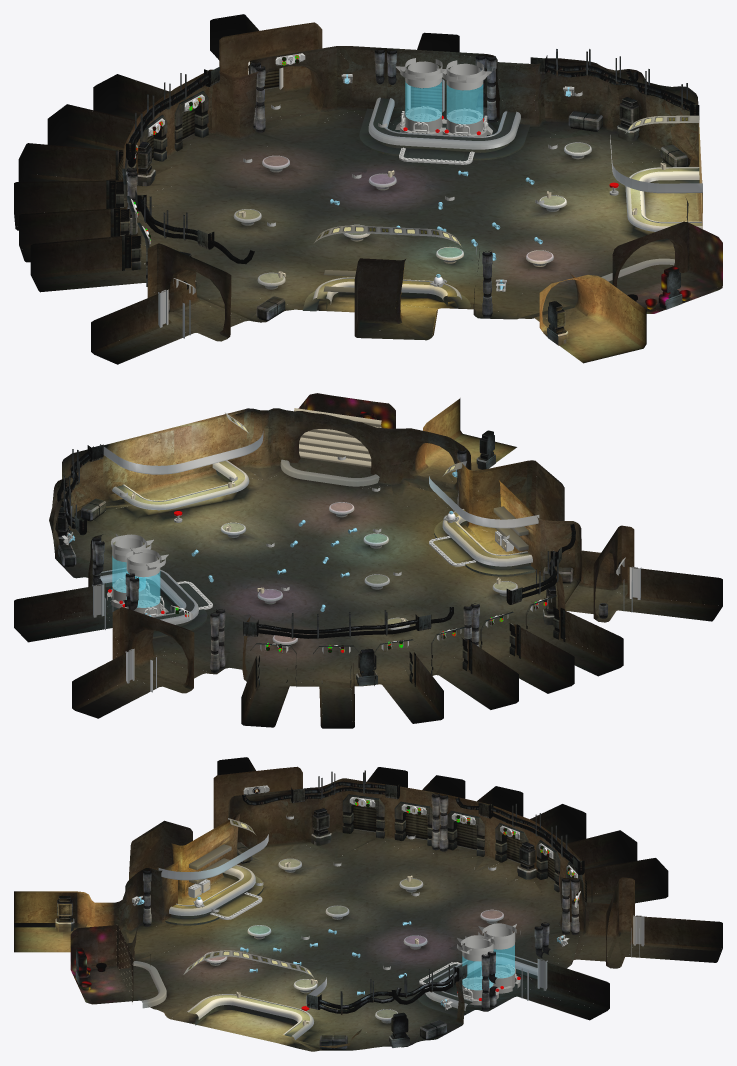
The model's file is cantina.glb.
3 renders of one model, top to bottom at view 1: azimuth 30°, elevation 25°; view 2: azimuth 150°, elevation 25°; view 3: azimuth 270°, elevation 25°, orthographic. The views are drawn at different scales.
Visible parts, largest first — view 1: mat240_lm266, mat168_lm266, mat216_lm266, mat165_lm266, mat074_lm266, mat162_lm266, mat166_lm266, mat011, mat265_lm266, mat203_lm266, mat204_lm266, mat310 (+8 smaller); view 2: mat240_lm266, mat168_lm266, mat216_lm266, mat162_lm266, mat165_lm266, mat074_lm266, mat166_lm266, mat265_lm266, mat011, mat009, mat204_lm266, mat203_lm266 (+8 smaller); view 3: mat240_lm266, mat168_lm266, mat165_lm266, mat162_lm266, mat074_lm266, mat216_lm266, mat166_lm266, mat011, mat203_lm266, mat204_lm266, mat262_lm230, mat138_lm230 (+13 smaller).
Boxes of the visible parts, x1,y1,x2,y2 form: mat240_lm266: [16, 53, 718, 364]; mat168_lm266: [14, 14, 722, 354]; mat216_lm266: [123, 48, 721, 334]; mat165_lm266: [126, 49, 699, 345]; mat074_lm266: [235, 98, 701, 311]; mat162_lm266: [158, 61, 702, 338]; mat166_lm266: [116, 48, 690, 333]; mat011: [126, 53, 582, 291]; mat265_lm266: [15, 50, 721, 354]; mat203_lm266: [106, 91, 208, 286]; mat204_lm266: [126, 49, 496, 315]; mat310: [405, 81, 483, 124]; mat240_lm266: [17, 434, 719, 728]; mat168_lm266: [14, 393, 722, 728]; mat216_lm266: [49, 396, 605, 687]; mat162_lm266: [92, 412, 641, 692]; mat165_lm266: [57, 444, 607, 686]; mat074_lm266: [100, 461, 535, 641]; mat166_lm266: [58, 412, 607, 679]; mat265_lm266: [15, 431, 721, 728]; mat011: [62, 456, 551, 653]; mat009: [131, 408, 506, 622]; mat204_lm266: [92, 450, 479, 670]; mat203_lm266: [250, 595, 565, 690]; mat240_lm266: [14, 829, 720, 1051]; mat168_lm266: [14, 757, 722, 1047]; mat165_lm266: [55, 770, 584, 1049]; mat162_lm266: [158, 818, 644, 1039]; mat074_lm266: [165, 859, 537, 1036]; mat216_lm266: [70, 778, 607, 1046]; mat166_lm266: [57, 784, 578, 1038]; mat011: [132, 797, 580, 1009]; mat203_lm266: [342, 794, 592, 902]; mat204_lm266: [143, 793, 579, 1008]; mat262_lm230: [233, 800, 305, 847]; mat138_lm230: [352, 804, 586, 902].
Bounding box in the file's own units: 12.52 × 1.55 × 13.75.
Materials: 47 (31 with a texture image).
